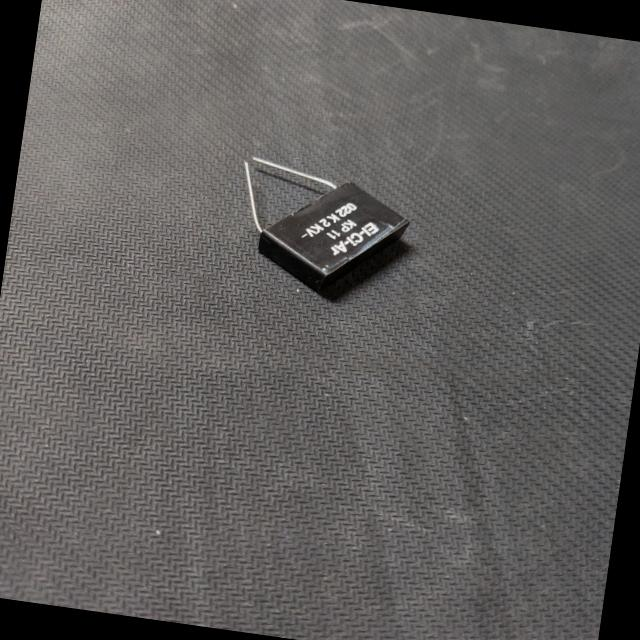capacitor: (216, 142, 424, 312)
